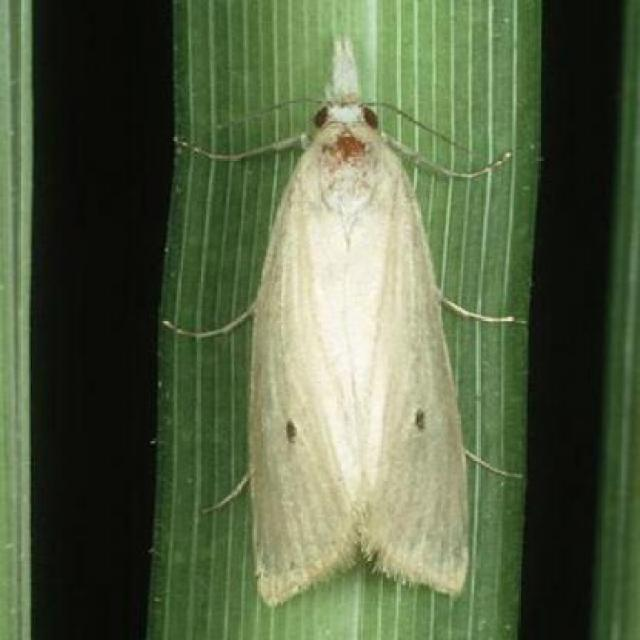stem-borer: (197, 29, 505, 609)
